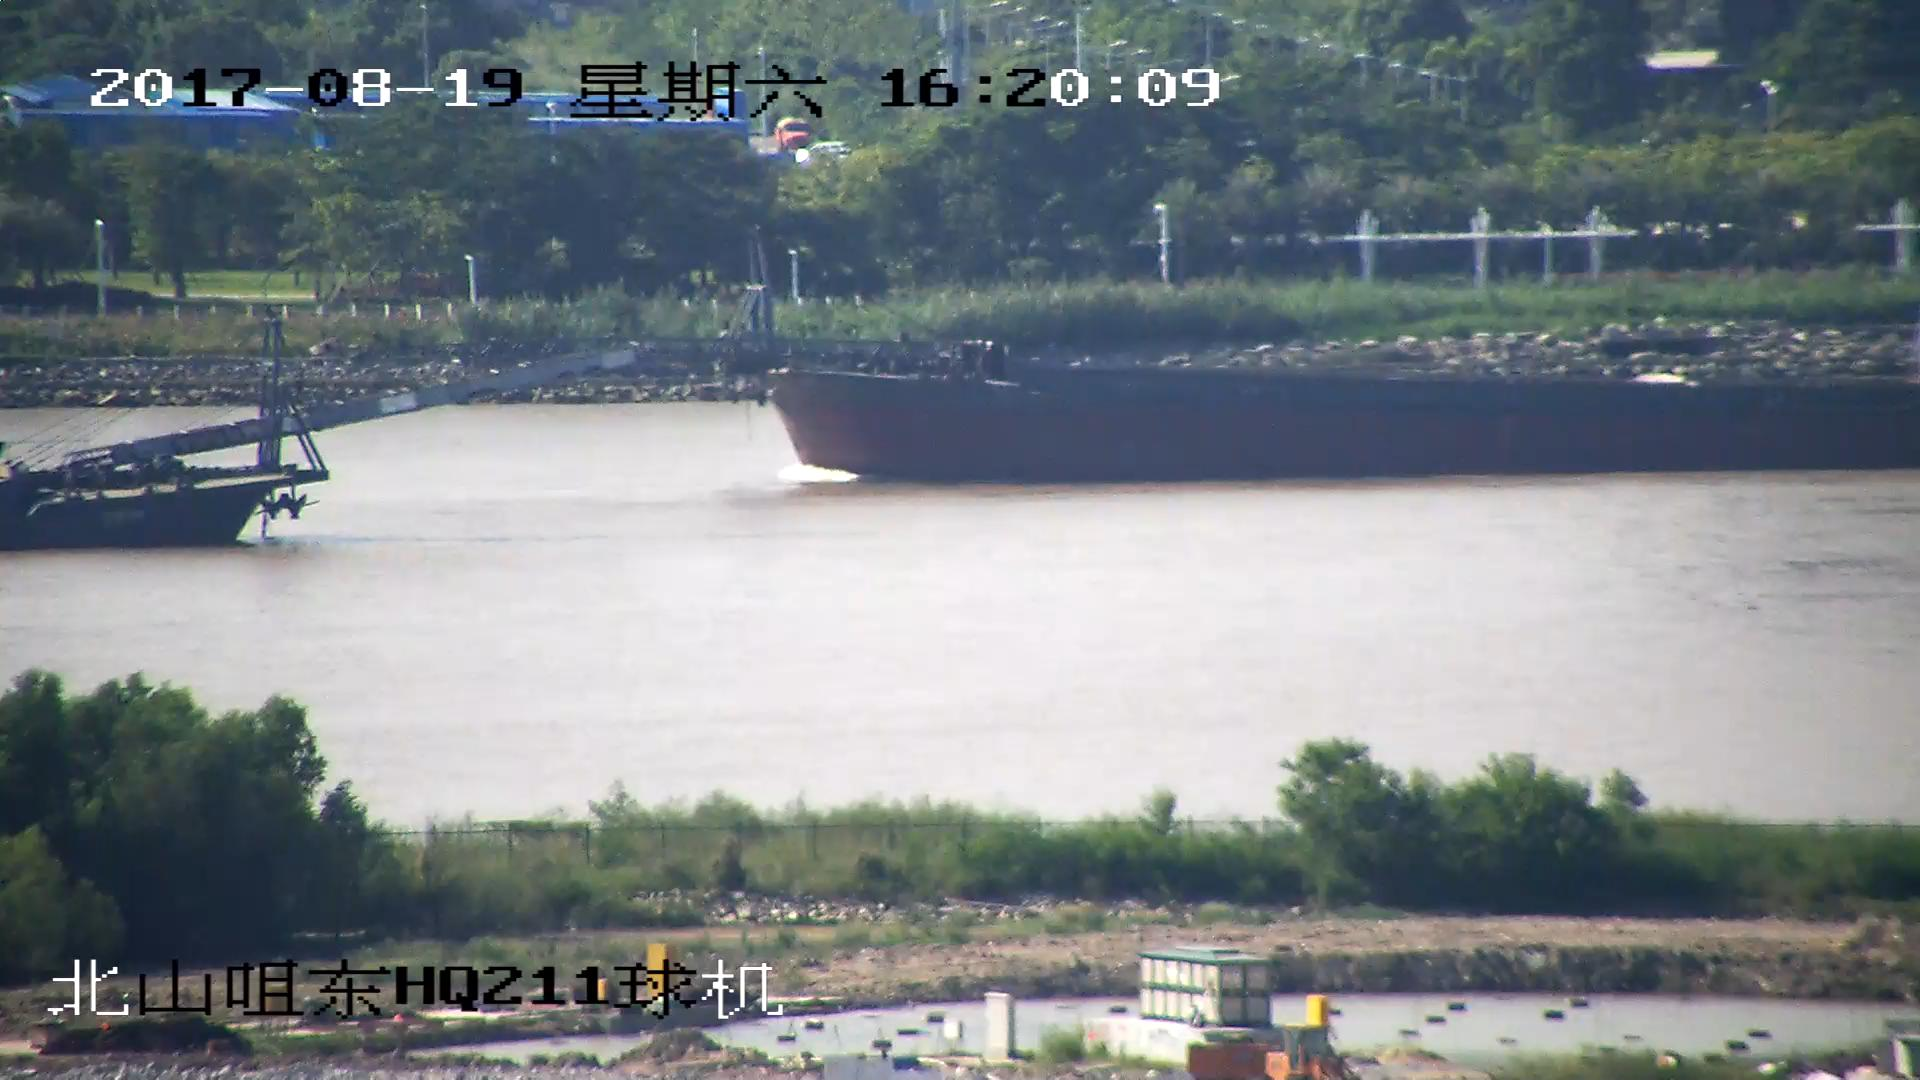bulk cargo carrier: (459, 238, 1920, 488)
ore carrier: (1, 318, 629, 554)
